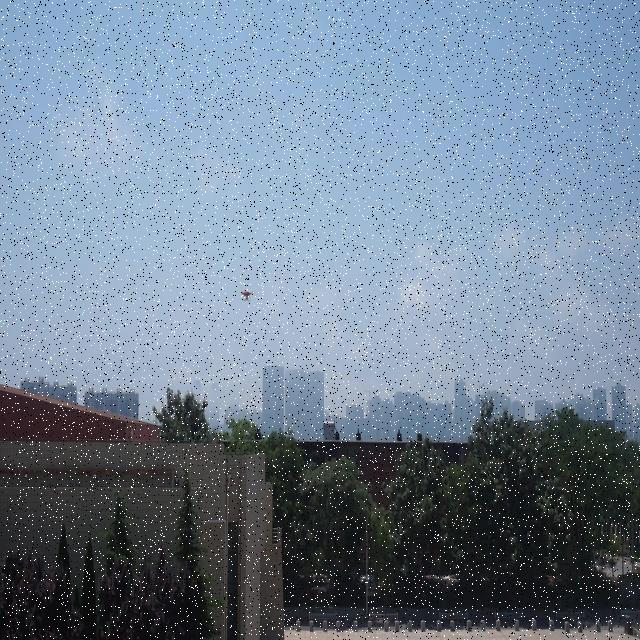UAV: (240, 289, 256, 302)
